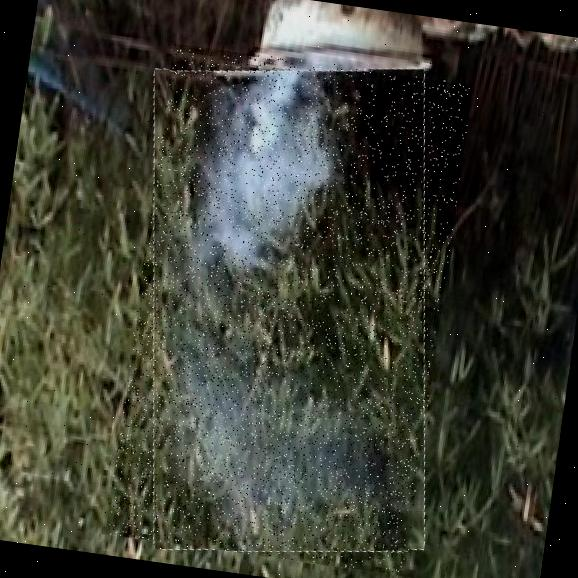smoke: (106, 43, 474, 575)
